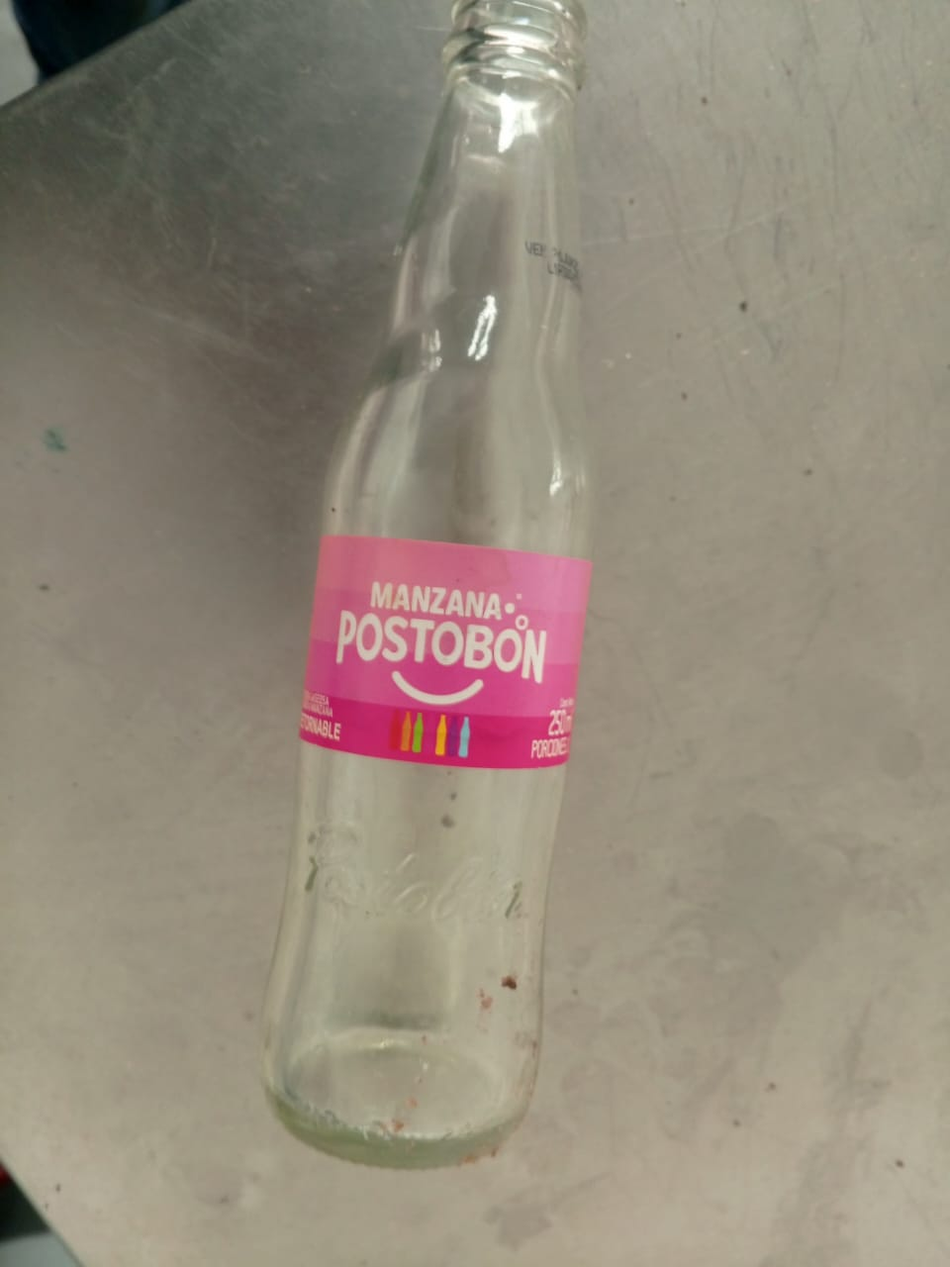Vidrio: (256, 0, 597, 1168)
